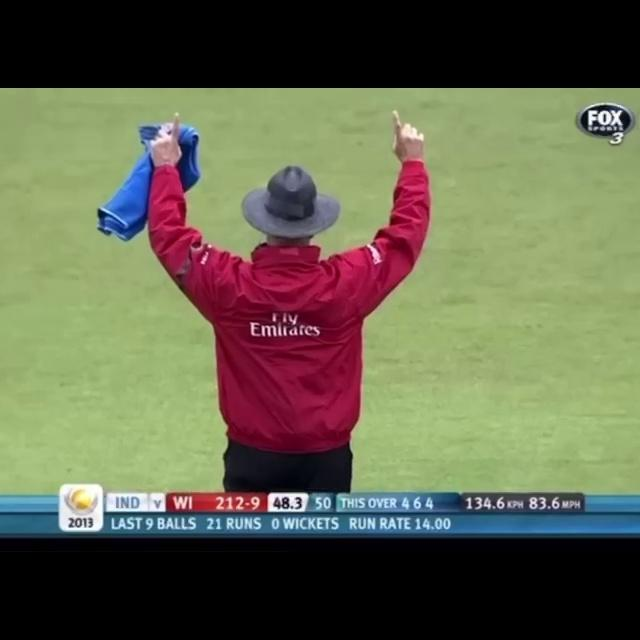umpire: (83, 91, 514, 490)
